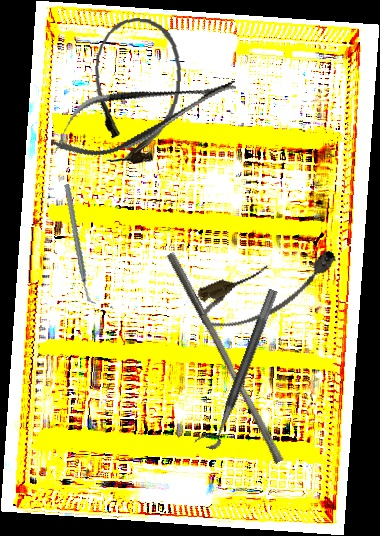Cannula: (190, 240, 348, 339), (87, 15, 186, 167)
Chopper: (39, 183, 121, 306)
Fixation Ring: (194, 283, 279, 452)
Micro Scissor: (42, 57, 245, 171)
Pusher: (157, 251, 292, 465)
